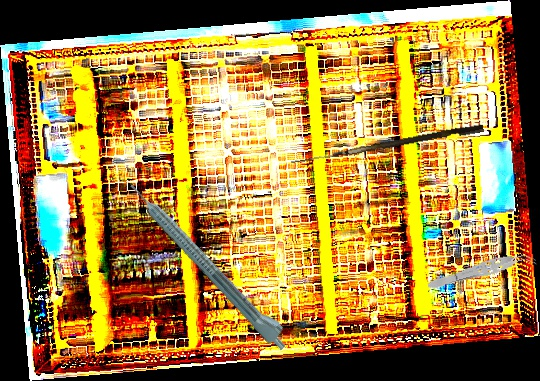Handpiece: (125, 173, 296, 354)
Hook Surgical: (290, 120, 485, 173)
Tissue Forceps: (425, 247, 538, 295)
